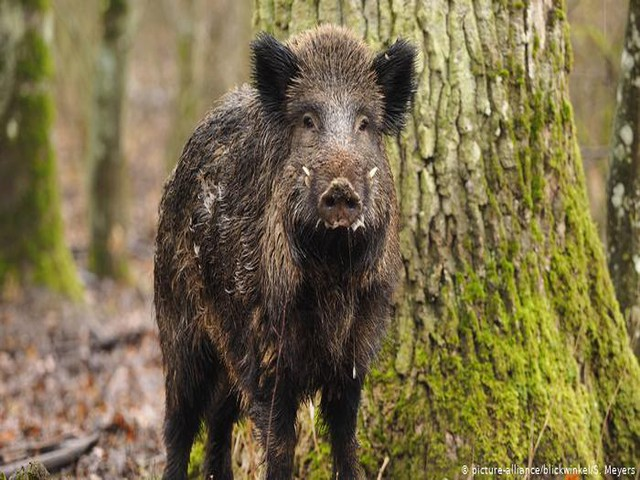Pig: (153, 21, 428, 478)
